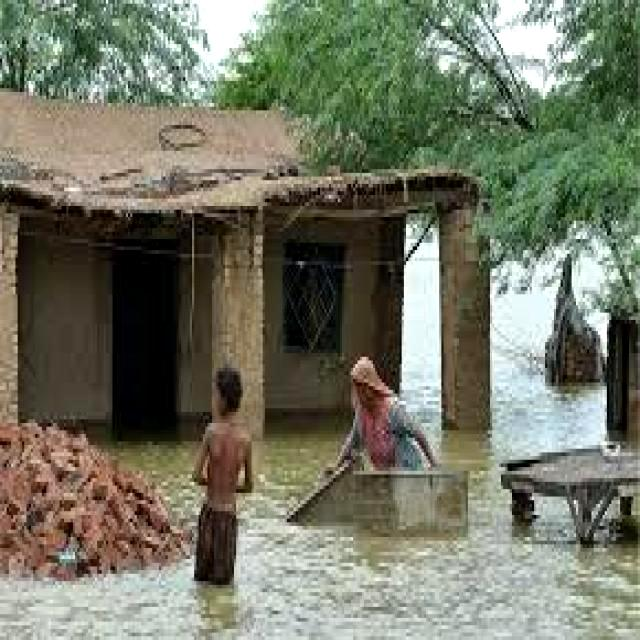civilian: (323, 348, 441, 499), (186, 365, 264, 591)
